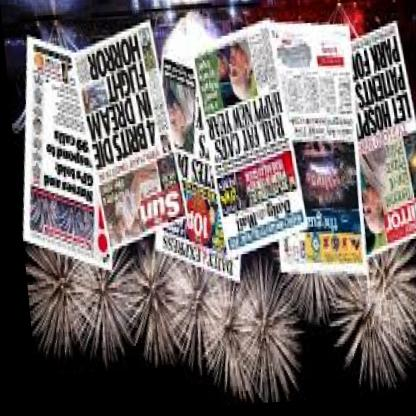Paper: (0, 0, 416, 311)
